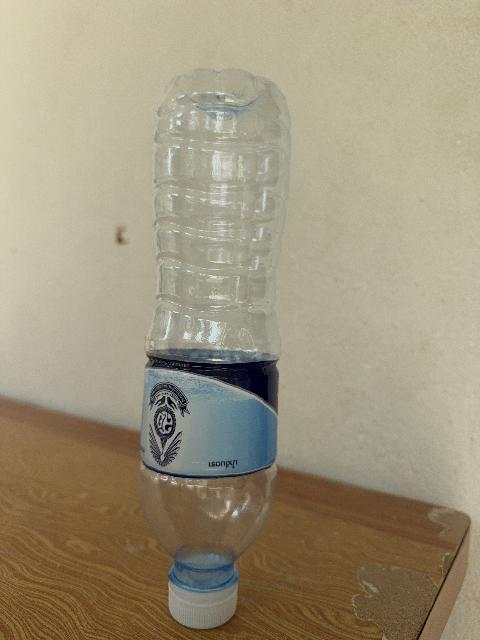bottle: (140, 70, 290, 628)
